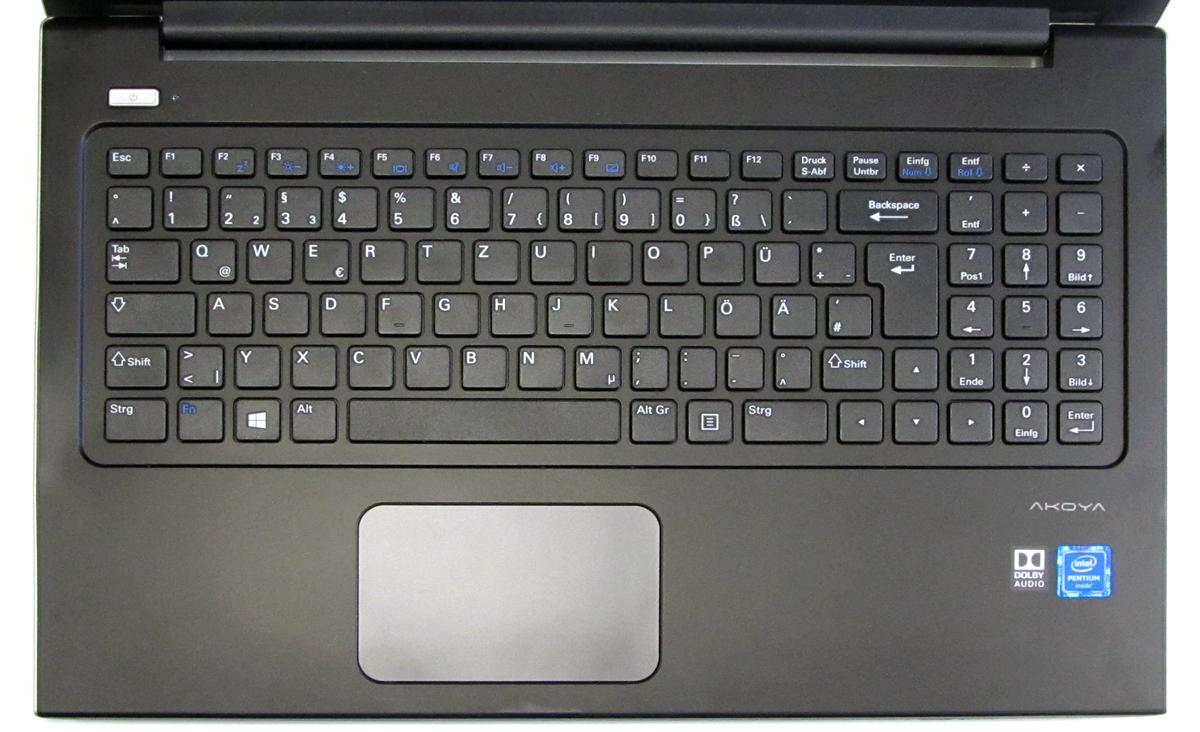0: (666, 185, 715, 231)
1: (159, 183, 207, 229)
2: (215, 183, 264, 228)
3: (271, 183, 321, 229)
4: (328, 183, 376, 228)
5: (384, 183, 433, 228)
6: (441, 184, 490, 229)
7: (498, 184, 547, 229)
8: (554, 184, 602, 230)
9: (610, 184, 659, 230)
a: (204, 289, 252, 335)
accent: (779, 186, 826, 232)
ae: (767, 291, 815, 337)
alt-left: (286, 395, 336, 441)
altgr-right: (627, 395, 676, 442)
b: (458, 342, 506, 389)
c: (344, 342, 393, 388)
caret: (102, 183, 150, 228)
comma: (627, 344, 667, 389)
d: (317, 289, 365, 335)
del: (833, 186, 938, 232)
e: (300, 236, 349, 282)
enter: (862, 237, 936, 335)
f: (373, 289, 421, 335)
g: (430, 289, 478, 335)
h: (486, 290, 535, 335)
hash: (824, 291, 871, 337)
i: (583, 237, 631, 283)
j: (543, 290, 590, 335)
k: (600, 290, 648, 336)
keyboard: (72, 114, 1134, 469)
l: (655, 290, 703, 336)
less: (174, 341, 223, 388)
m: (570, 343, 620, 389)
minus: (722, 344, 763, 389)
n: (514, 343, 563, 389)
o: (638, 237, 686, 283)
oe: (710, 290, 758, 336)
p: (694, 238, 743, 283)
plus: (807, 239, 855, 284)
point: (675, 344, 715, 389)
q: (187, 236, 235, 282)
r: (357, 236, 405, 283)
s: (260, 289, 308, 335)
shift-left: (99, 340, 166, 387)
shift-lock: (101, 288, 195, 334)
shift-right: (820, 346, 886, 392)
space: (345, 394, 618, 442)
ss: (722, 185, 771, 231)
strg-left: (98, 394, 165, 440)
strg-right: (740, 398, 830, 443)
t: (413, 236, 461, 282)
tab: (101, 235, 177, 281)
u: (527, 237, 574, 283)
ue: (750, 238, 799, 284)
v: (402, 342, 450, 388)
w: (243, 235, 291, 282)
x: (288, 341, 336, 387)
y: (231, 342, 280, 388)
z: (470, 236, 519, 282)
